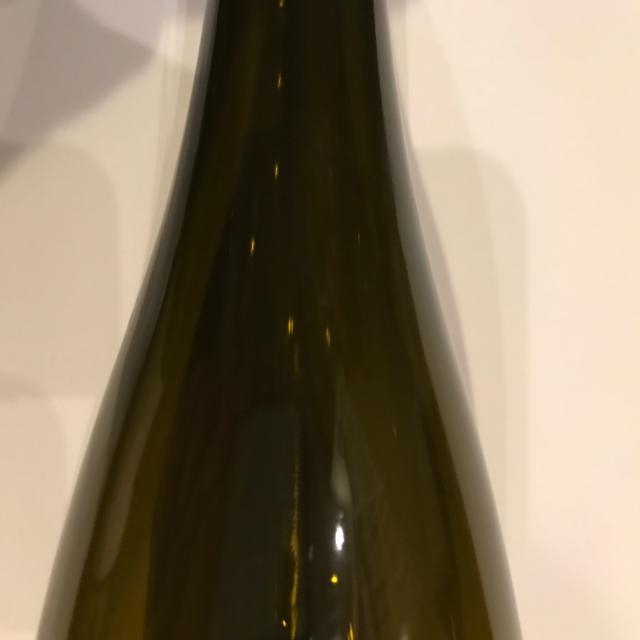glass: (37, 1, 496, 640)
